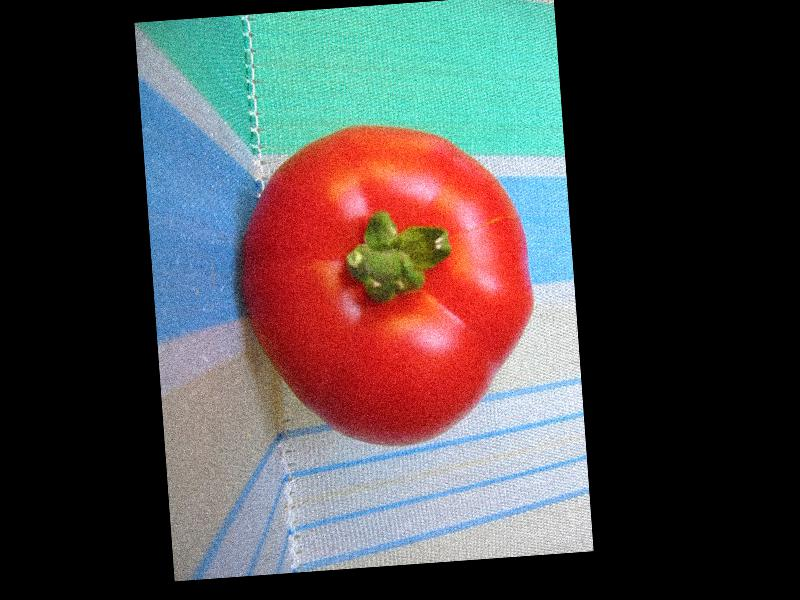Tomato: (229, 114, 543, 454)
